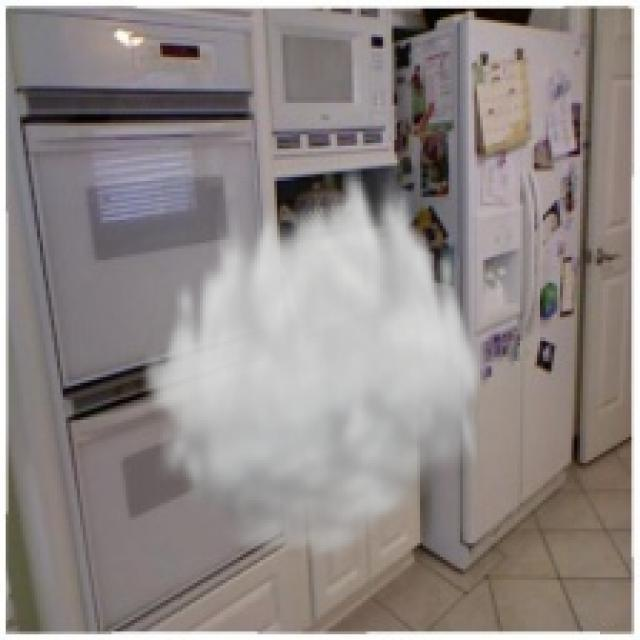Smoke: (137, 151, 486, 566)
